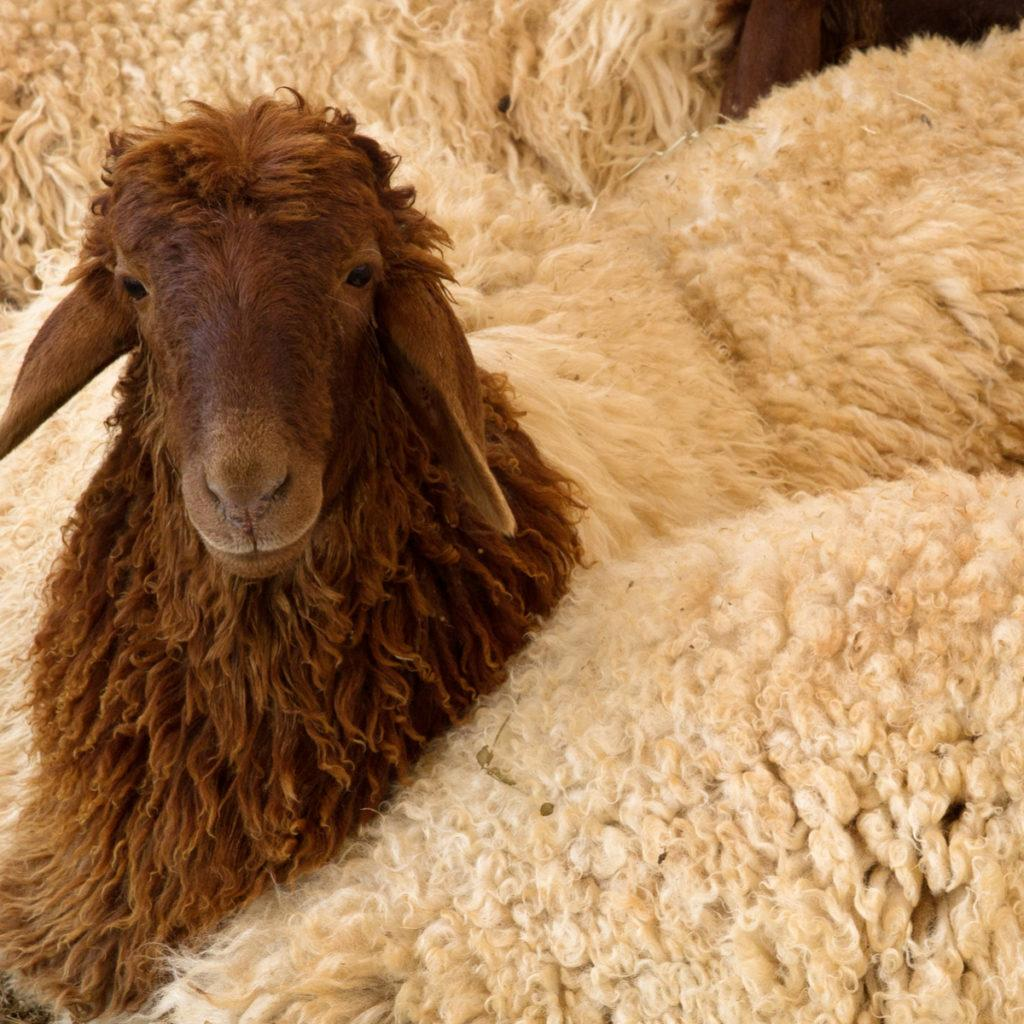Sheep: (0, 105, 528, 605)
